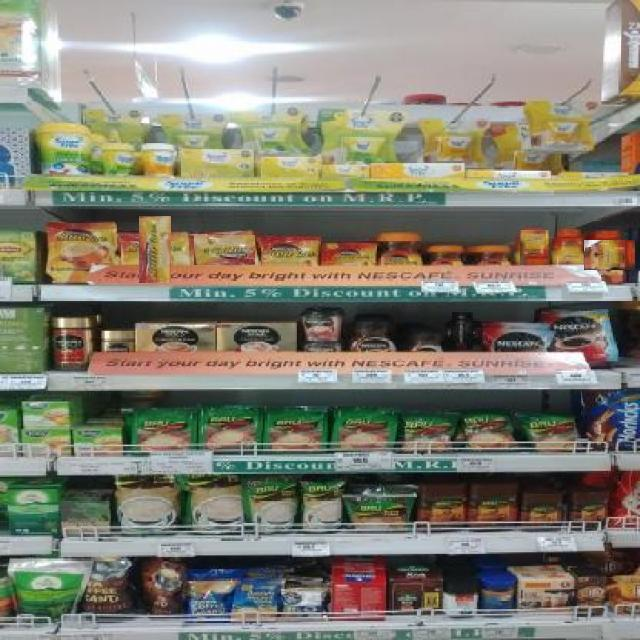Coffee: (49, 223, 116, 282), (548, 312, 615, 363), (140, 216, 171, 283), (194, 234, 255, 265), (259, 238, 318, 265), (584, 241, 635, 270), (554, 229, 584, 266), (519, 229, 549, 265), (451, 312, 473, 350)
